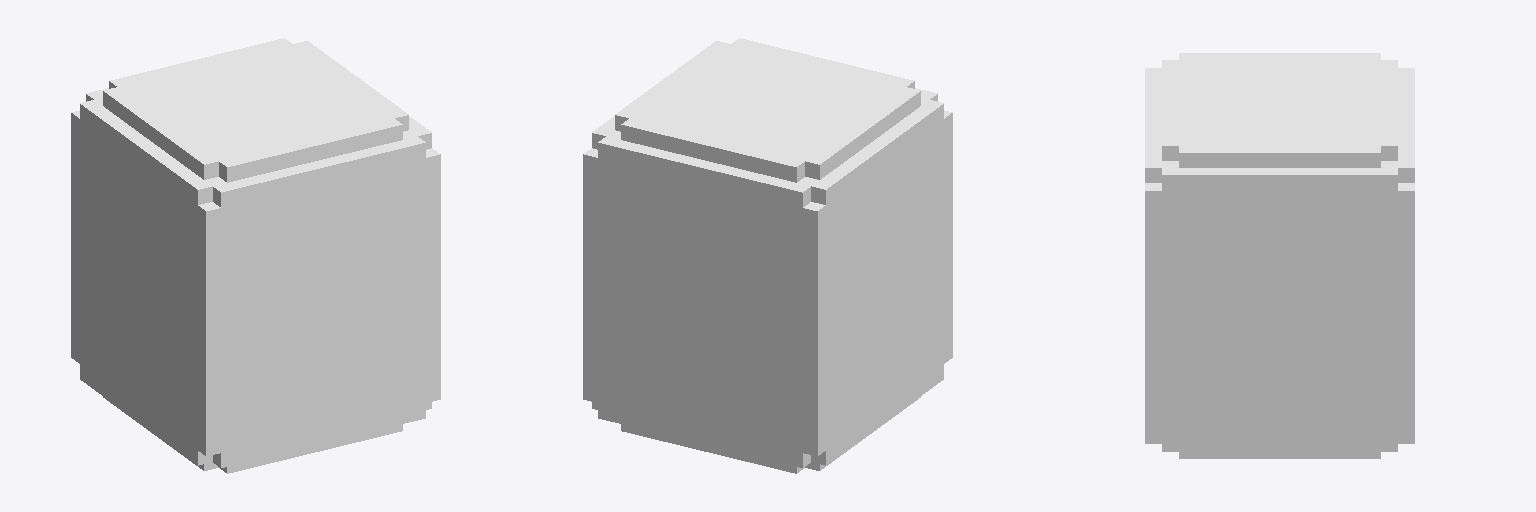
File: tempblock.obj
The picture shows the model from 3 angles: view 1: azimuth 30°, elevation 25°; view 2: azimuth 150°, elevation 25°; view 3: azimuth 270°, elevation 25°; orthographic projection.
Parts seen in each view (by area): view 1: tempblock; view 2: tempblock; view 3: tempblock.
Part boxes in pixels (left/top/right/bottom): tempblock: left=71, top=38, right=440, bottom=473; tempblock: left=583, top=38, right=952, bottom=473; tempblock: left=1145, top=53, right=1414, bottom=458.
Size of the model in its own units: 16 by 20 by 16.